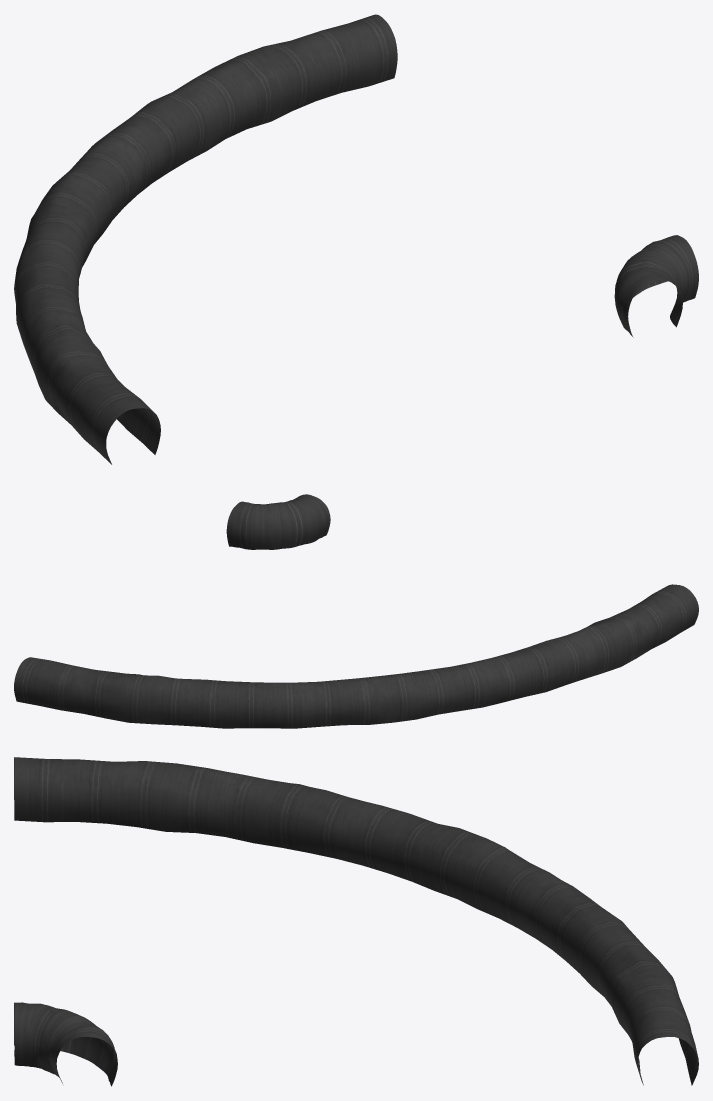
File: small_black_edge_corner_complex.dae
3 renders of one model, top to bottom at view 1: azimuth 30°, elevation 25°; view 2: azimuth 150°, elevation 25°; view 3: azimuth 270°, elevation 25°, orthographic. The views are drawn at different scales.
Visible parts, largest first — view 1: small_black_edge_corner; view 2: small_black_edge_corner; view 3: small_black_edge_corner.
Part boxes in pixels (x1=…): small_black_edge_corner: x1=14, y1=14, x2=698, y2=464; small_black_edge_corner: x1=14, y1=494, x2=698, y2=728; small_black_edge_corner: x1=14, y1=757, x2=698, y2=1086.
Size of the model in its own units: 0.942 by 0.942 by 0.0845.
Materials: 1 (1 with a texture image).
